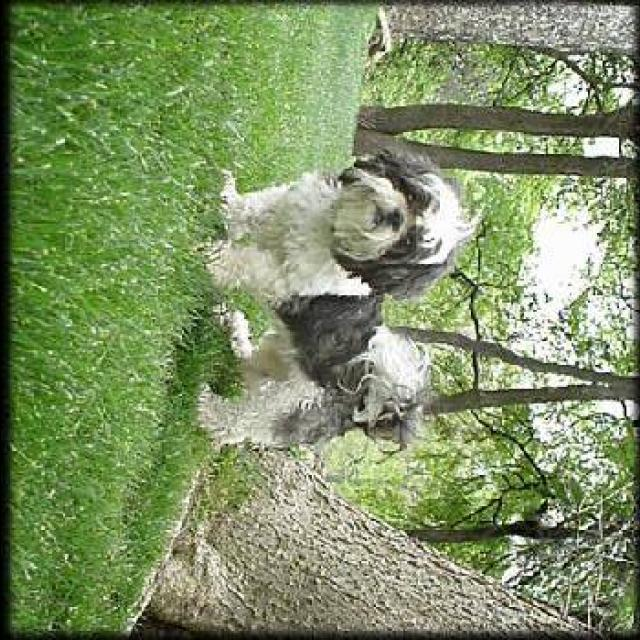dog: (155, 138, 506, 478)
